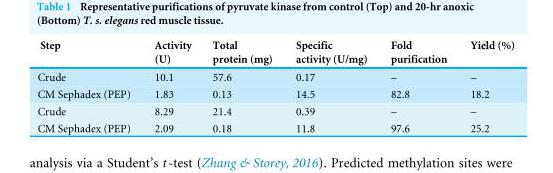table: (36, 37, 514, 134)
table column: (36, 37, 141, 134), (283, 37, 378, 134), (201, 37, 283, 134), (378, 37, 458, 134), (141, 37, 201, 134), (458, 37, 514, 134)
table column header: (36, 37, 514, 66)
table row: (36, 37, 514, 66), (36, 66, 514, 84), (36, 84, 514, 101), (36, 101, 514, 118), (36, 118, 514, 134)
